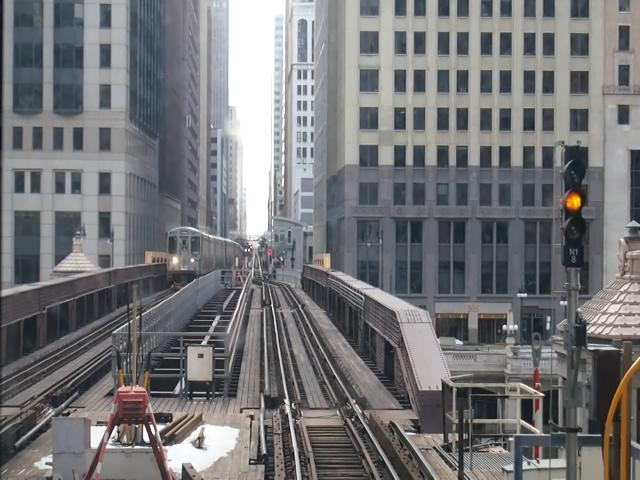signal light: (561, 145, 589, 269)
